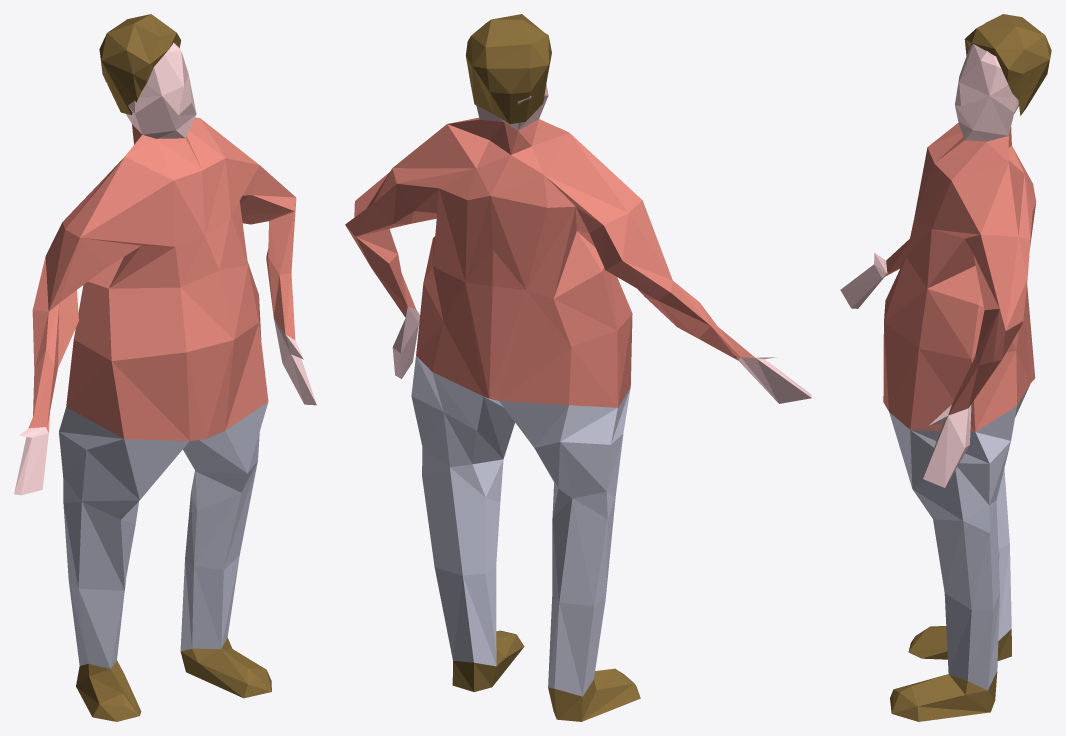
Rendered from OldMan.gltf.
3 renders of one model, left to right at view 1: azimuth 30°, elevation 25°; view 2: azimuth 150°, elevation 25°; view 3: azimuth 270°, elevation 25°, orthographic. The views are drawn at different scales.
Visible parts, largest first — view 1: OldManShirt, OldManPants, OldManHair, OldManSkin; view 2: OldManShirt, OldManPants, OldManHair, OldManSkin; view 3: OldManShirt, OldManPants, OldManHair, OldManSkin.
Boxes of the visible parts, left/top/right/bottom form: OldManShirt: left=28, top=117, right=296, bottom=441; OldManPants: left=59, top=402, right=268, bottom=668; OldManHair: left=76, top=14, right=271, bottom=721; OldManSkin: left=14, top=42, right=316, bottom=495; OldManShirt: left=345, top=117, right=755, bottom=407; OldManPants: left=411, top=356, right=630, bottom=696; OldManHair: left=452, top=14, right=640, bottom=721; OldManSkin: left=392, top=84, right=811, bottom=403; OldManShirt: left=883, top=123, right=1036, bottom=431; OldManPants: left=889, top=385, right=1029, bottom=690; OldManHair: left=890, top=14, right=1051, bottom=721; OldManSkin: left=840, top=44, right=1018, bottom=487.
Bounding box in the file's own units: 86.64 × 151 × 43.67.
